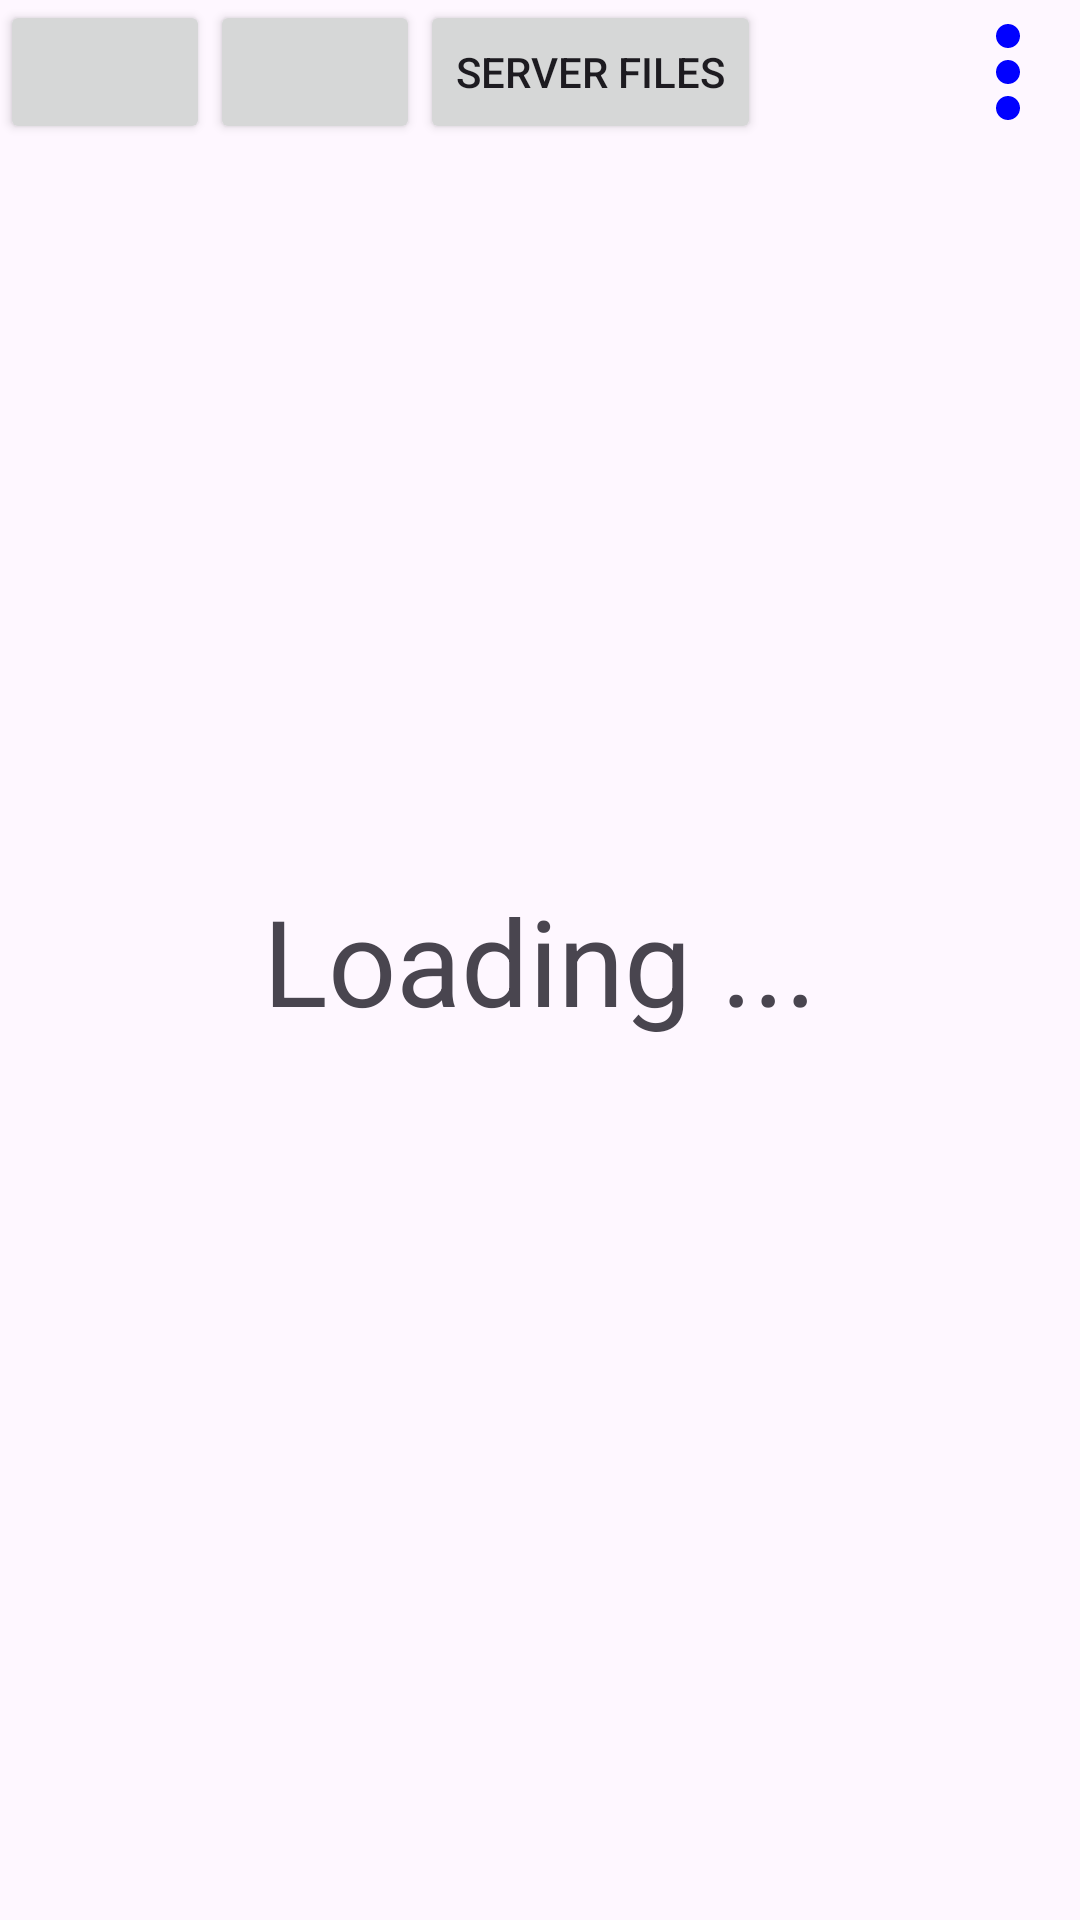

Locate icon controls on the screen. Image size 1080w x 1920h, boxes as (x1, y1, x2, y2).
more vert: (996, 24, 1020, 120)
